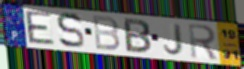B: (122, 16, 153, 55), (91, 14, 122, 53)
E: (23, 10, 57, 47)
J: (162, 23, 185, 57)
R: (187, 22, 220, 62)
S: (55, 11, 86, 50)
